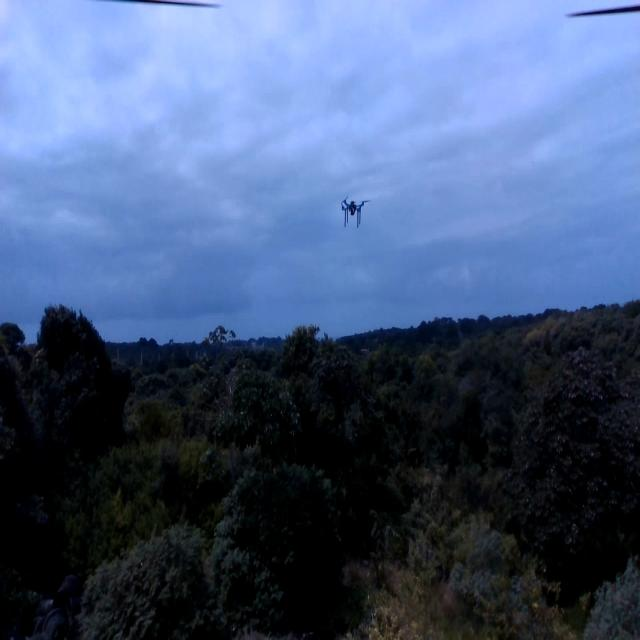-uav-: (334, 184, 376, 235)
